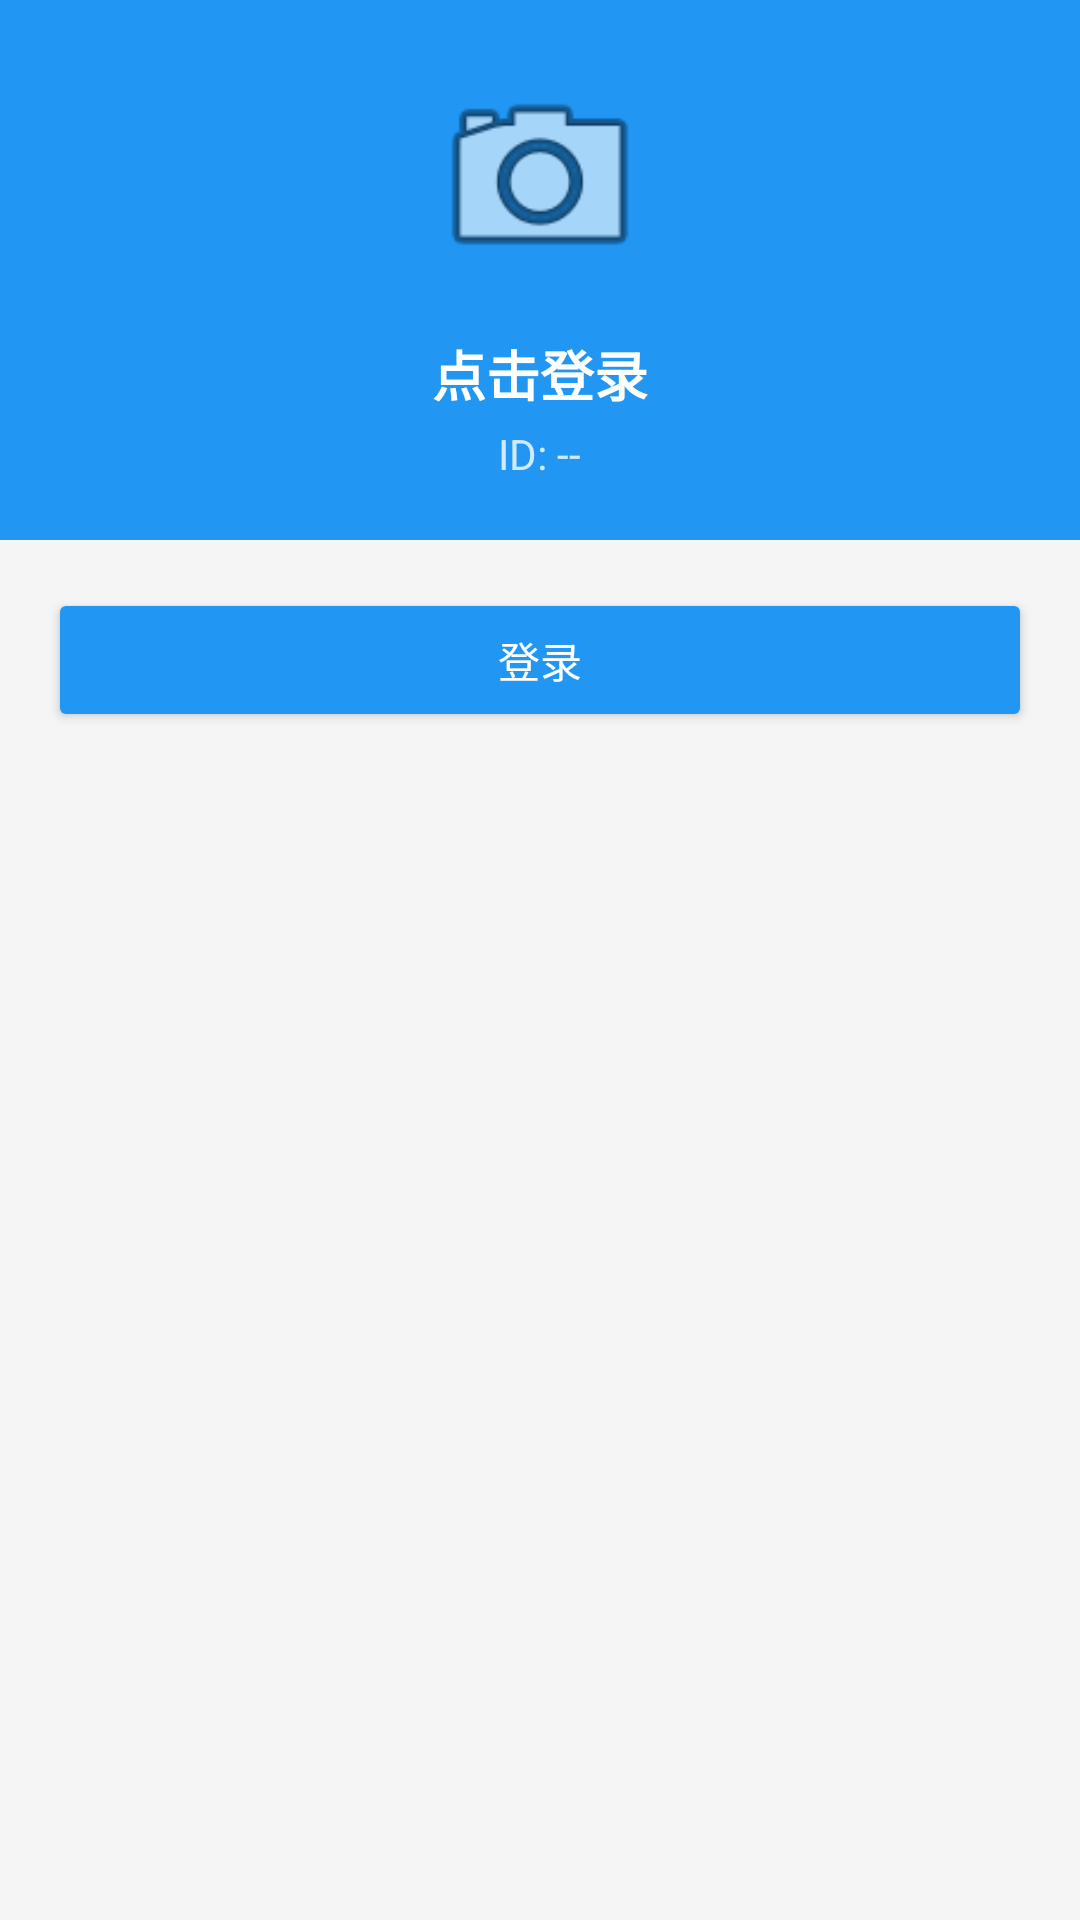

Icon bounding boxes for this 1080x1920 phone screenshot, format (x1, y1, x2, y2):
camera: (452, 104, 628, 245)
